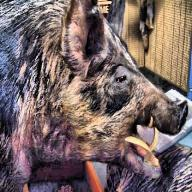boar: (0, 6, 189, 192)
